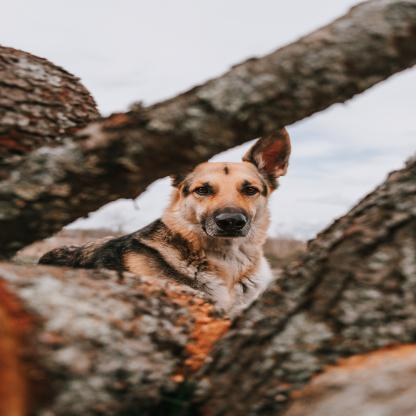dog: (35, 123, 305, 316)
